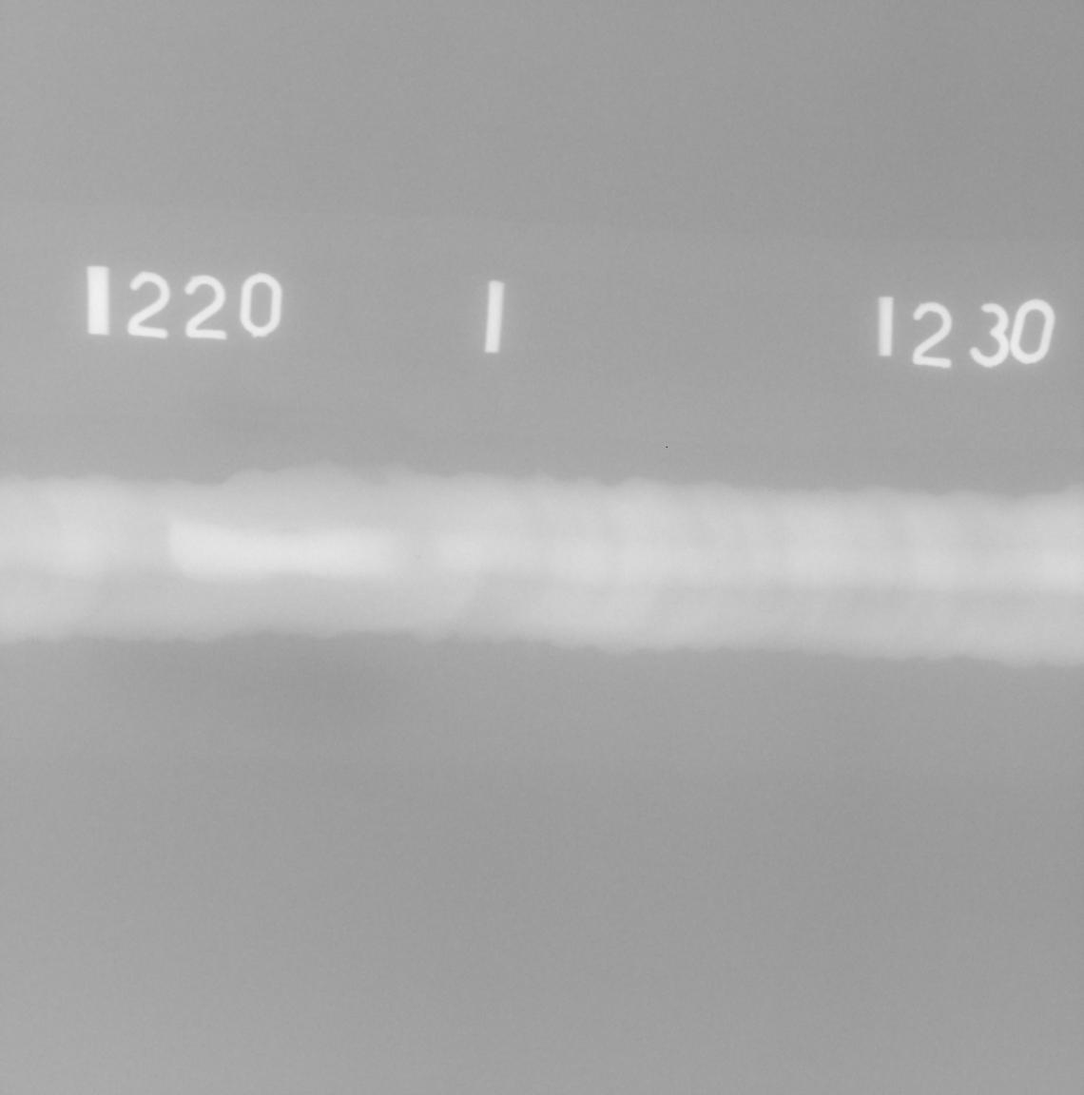Pore/Porosity: (415, 555, 422, 560)
